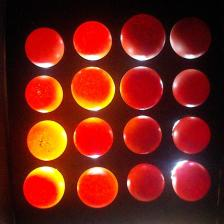fertile: (120, 13, 166, 61), (120, 66, 163, 110), (170, 15, 211, 58), (172, 160, 211, 202), (123, 115, 162, 155), (126, 163, 165, 202), (172, 68, 210, 108), (172, 116, 211, 154)
infertile: (71, 66, 115, 110), (23, 166, 65, 209), (77, 167, 118, 208), (27, 120, 68, 161), (25, 27, 65, 68), (74, 118, 114, 158), (73, 21, 112, 60), (25, 75, 64, 113)
